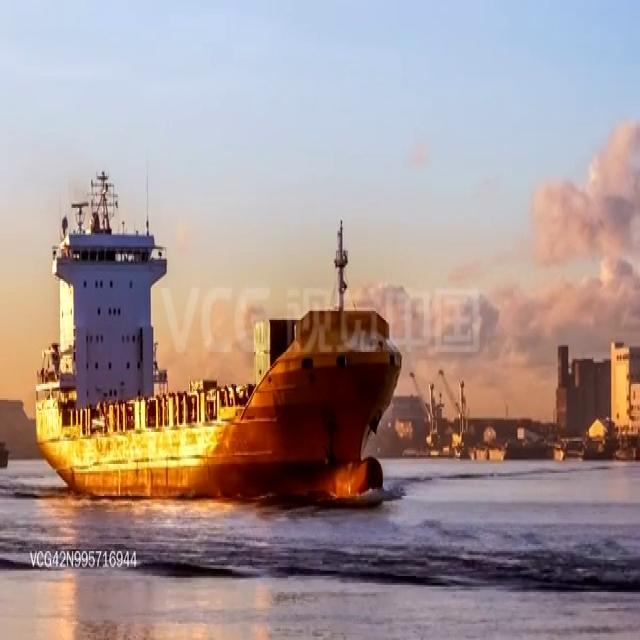cargoship: (32, 171, 402, 511)
